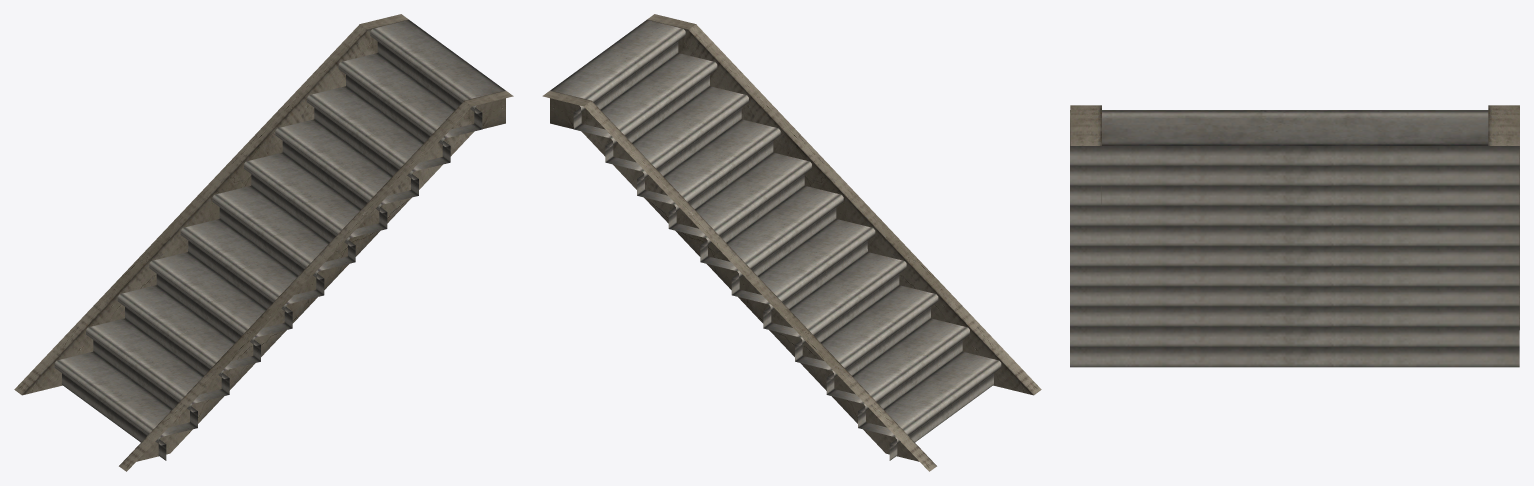
File: stairs_attic_02.DAE
The picture shows the model from 3 angles, left to right: view 1: azimuth 30°, elevation 25°; view 2: azimuth 150°, elevation 25°; view 3: azimuth 270°, elevation 25°; orthographic projection. The views are drawn at different scales.
Parts seen in each view (by area): view 1: Box005; view 2: Box005; view 3: Box005.
Part boxes in pixels (box(x1,y1,x2,y2)): Box005: box(14, 14, 513, 471); Box005: box(542, 14, 1041, 471); Box005: box(1070, 105, 1519, 367).
Bounding box in the file's own units: 3.98 × 2.76 × 2.
